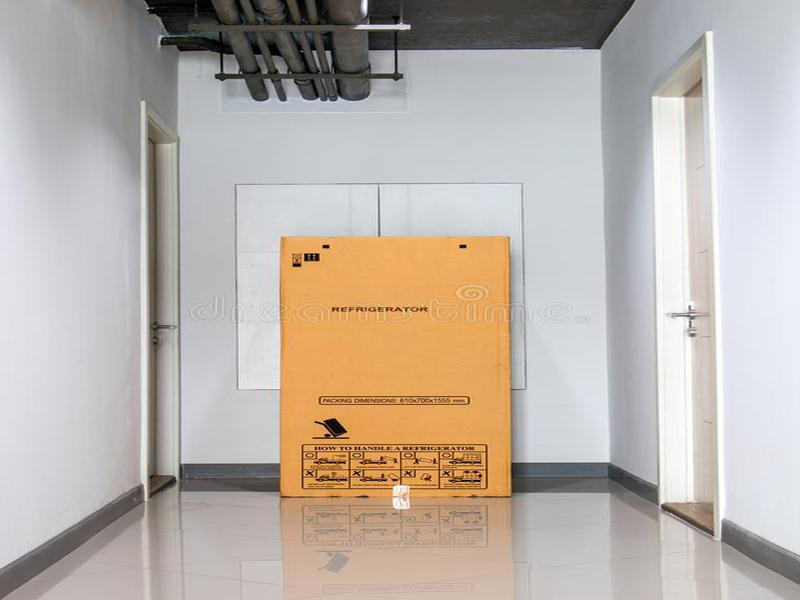package: (270, 226, 519, 504)
